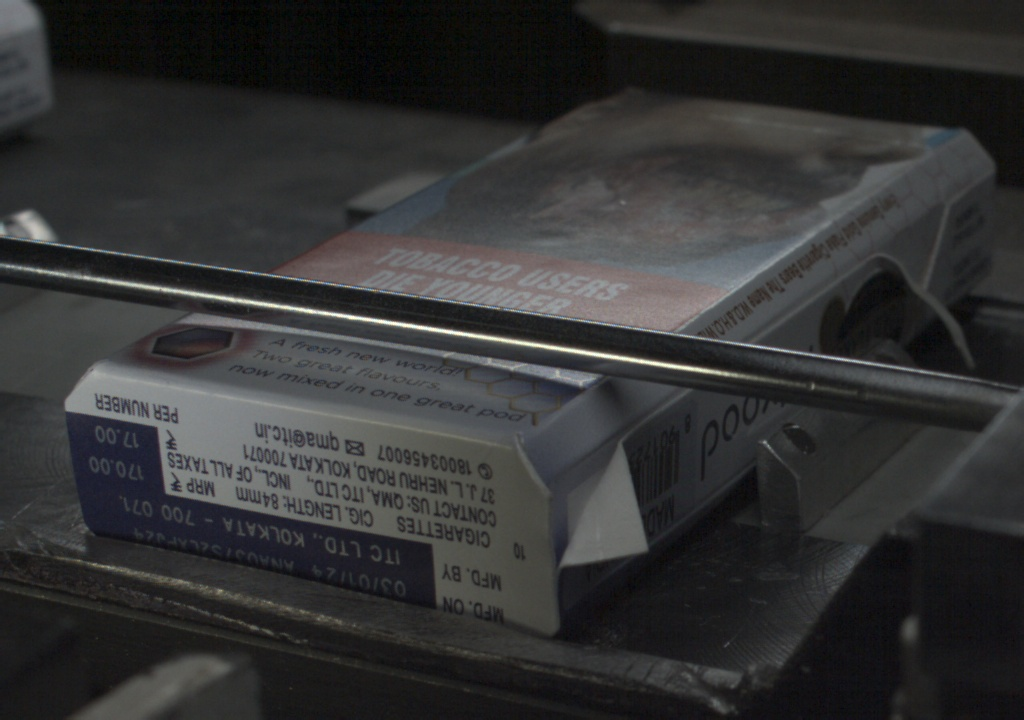g_bottom: (61, 359, 558, 632)
g_label: (77, 489, 435, 607)
g_miter: (944, 165, 993, 209)
ng_lmiter: (558, 420, 649, 564), (878, 248, 976, 350)
price: (74, 422, 165, 491)
